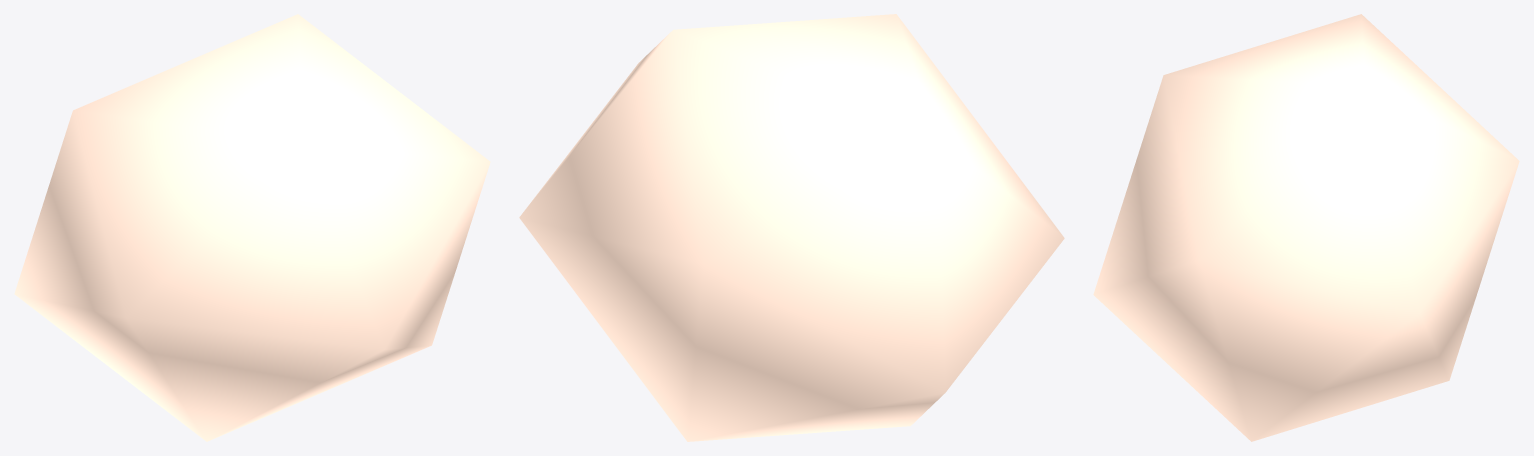
Rendered from rock01.fbx.
3 renders of one model, left to right at view 1: azimuth 30°, elevation 25°; view 2: azimuth 150°, elevation 25°; view 3: azimuth 270°, elevation 25°, orthographic. The views are drawn at different scales.
Visible parts, largest first — view 1: rock01; view 2: rock01; view 3: rock01.
Part boxes in pixels (bbox=[...]): rock01: bbox=[14, 14, 490, 441]; rock01: bbox=[519, 14, 1064, 441]; rock01: bbox=[1093, 14, 1519, 441].
Size of the model in its own units: 8.1 by 7.29 by 7.88.
